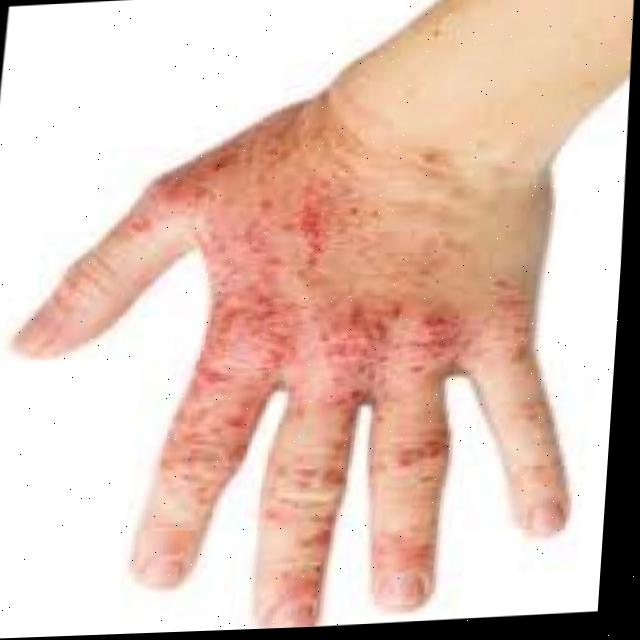Eczema: (164, 157, 522, 552)
